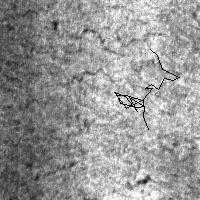crazing: (12, 5, 177, 56), (3, 95, 88, 182), (1, 48, 131, 94), (114, 49, 179, 129)
